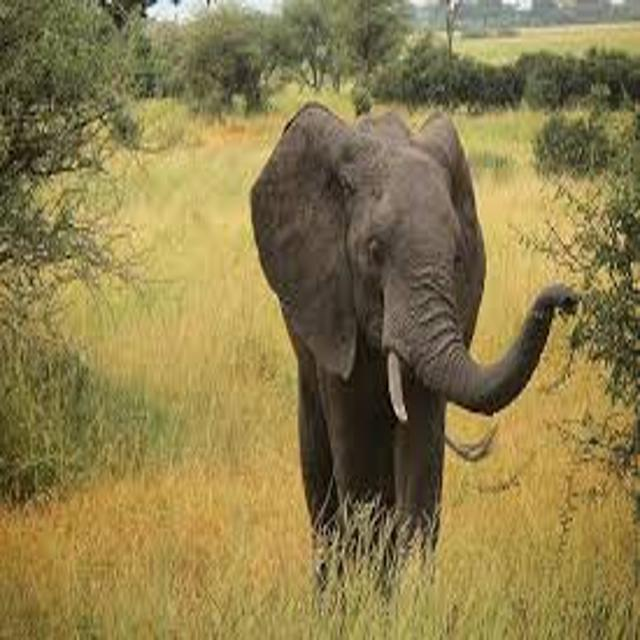elephant: (196, 67, 616, 631)
